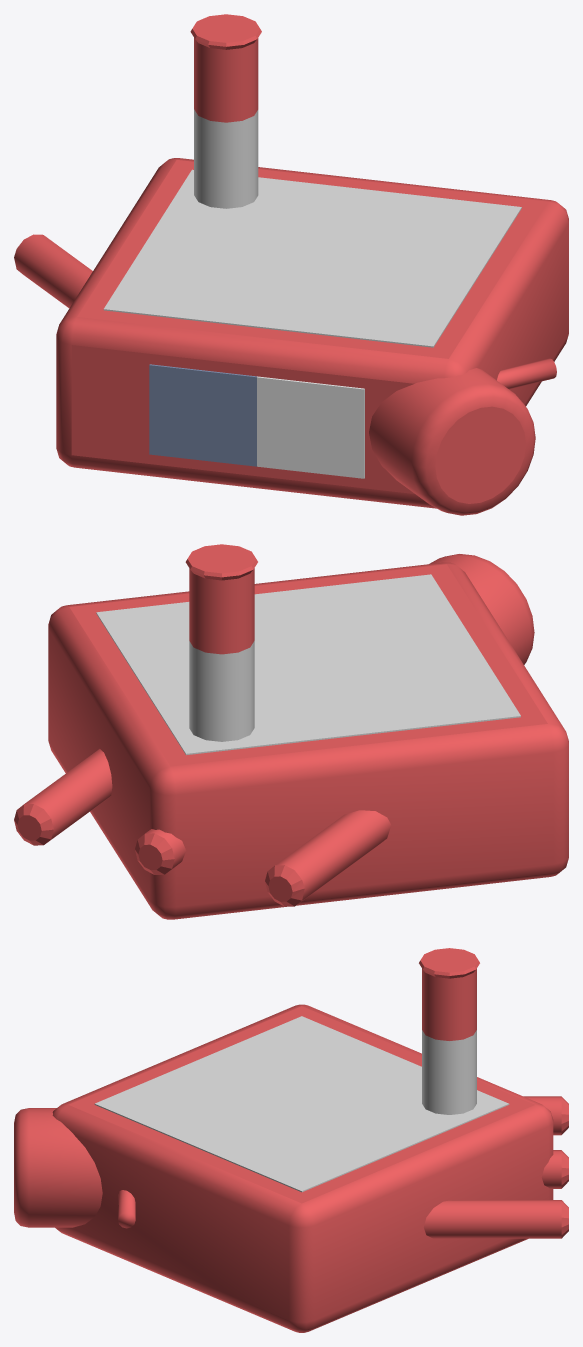
File: quadrox.fbx
3 views of the same model, one above another, from view 1: azimuth 30°, elevation 25°; view 2: azimuth 150°, elevation 25°; view 3: azimuth 270°, elevation 25° (orthographic). The views are drawn at different scales.
Visible parts, largest first — view 1: Quadrox; view 2: Quadrox; view 3: Quadrox.
Boxes of the visible parts, x1,y1,x2,y2 form: Quadrox: [14, 14, 568, 515]; Quadrox: [14, 544, 568, 919]; Quadrox: [14, 948, 568, 1332].
Bounding box in the file's own units: 18.2 × 10.87 × 20.1.
